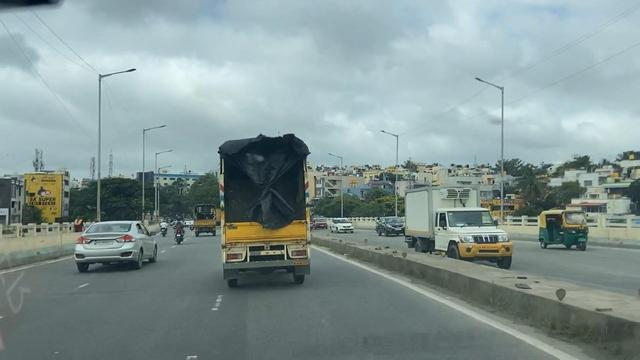HMV: (212, 129, 327, 293), (393, 183, 523, 269), (192, 198, 230, 245)
